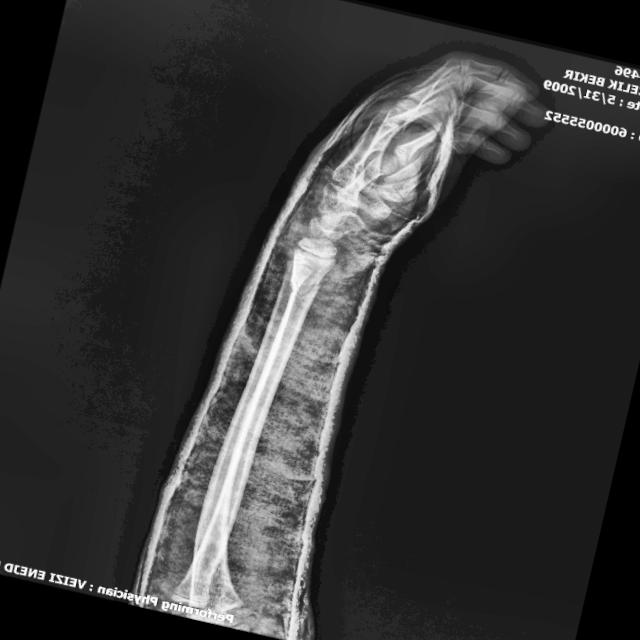Fracture: (277, 263, 330, 307)
